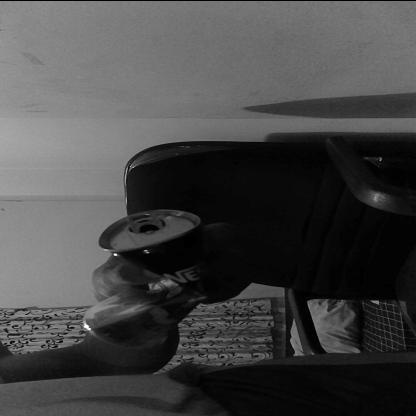alumunium_can: (79, 207, 223, 346)
